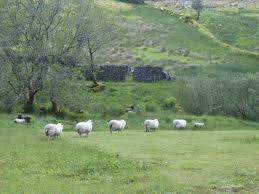sheep: (108, 118, 129, 137), (75, 118, 93, 139), (46, 122, 65, 140), (172, 119, 189, 131), (145, 119, 159, 133), (193, 121, 204, 130)
